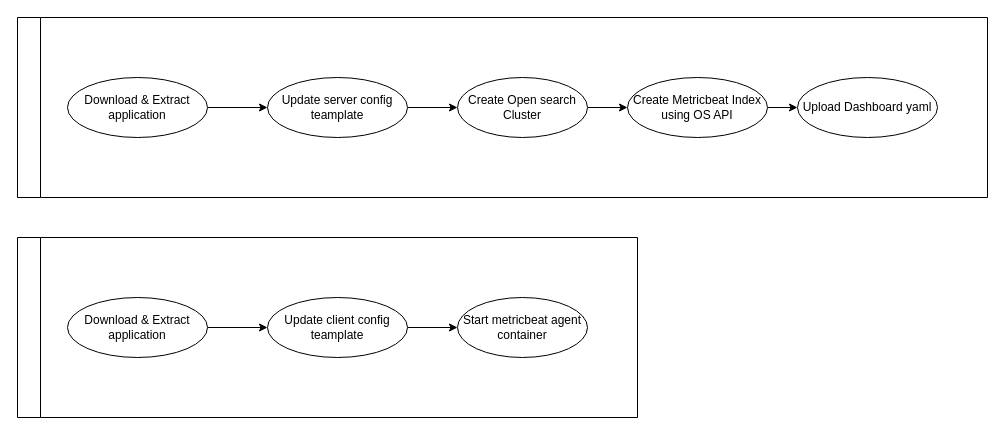
Image size: 1005x435. Some labels were removed from this diagram. Each missing label, with the centre of its shape:
"Client Agent Installation flow" belongs at point (327, 327).
"Server Installation flow" belongs at point (502, 107).
